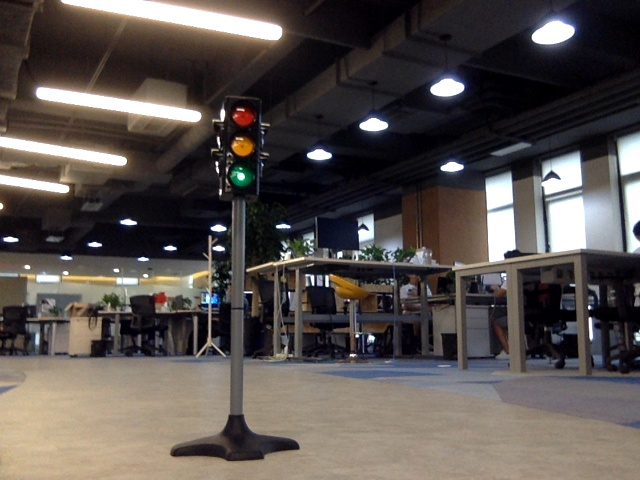green: (225, 102, 258, 190)
